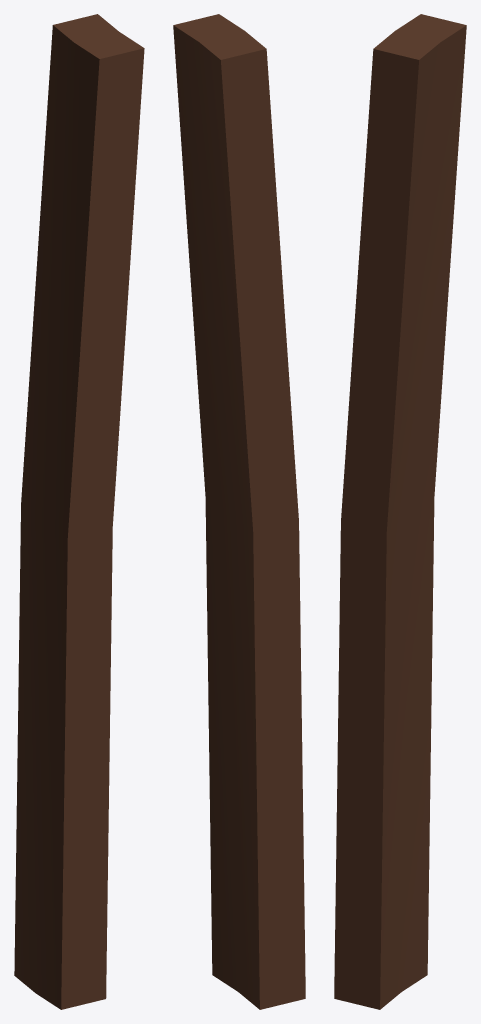
Rendered from balk voor mistakes.fbx.
3 renders of one model, left to right at view 1: azimuth 30°, elevation 25°; view 2: azimuth 210°, elevation 25°; view 3: azimuth 330°, elevation 25°, orthographic.
Visible parts, largest first — view 1: balk; view 2: balk; view 3: balk.
Boxes of the visible parts, box(x1,y1,x2,y2) form: balk: box(14, 14, 144, 1009); balk: box(173, 14, 305, 1009); balk: box(334, 14, 466, 1009).
Bounding box in the file's own units: 0.19 × 2 × 0.18.
